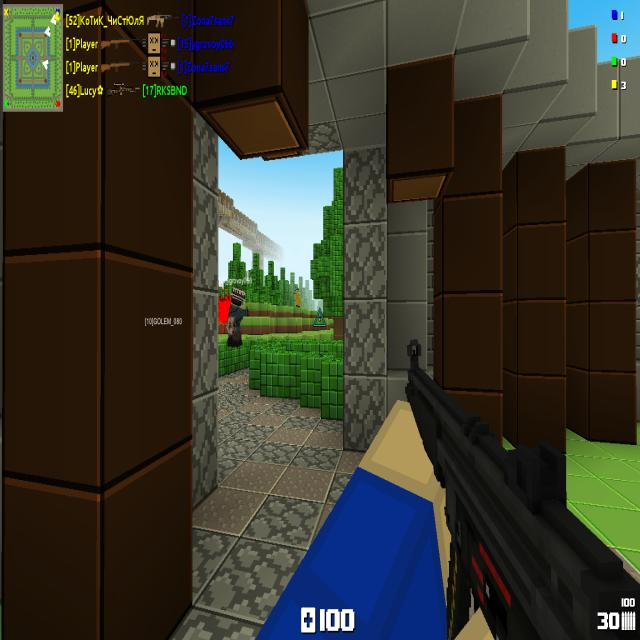enemy: (294, 288, 300, 308)
